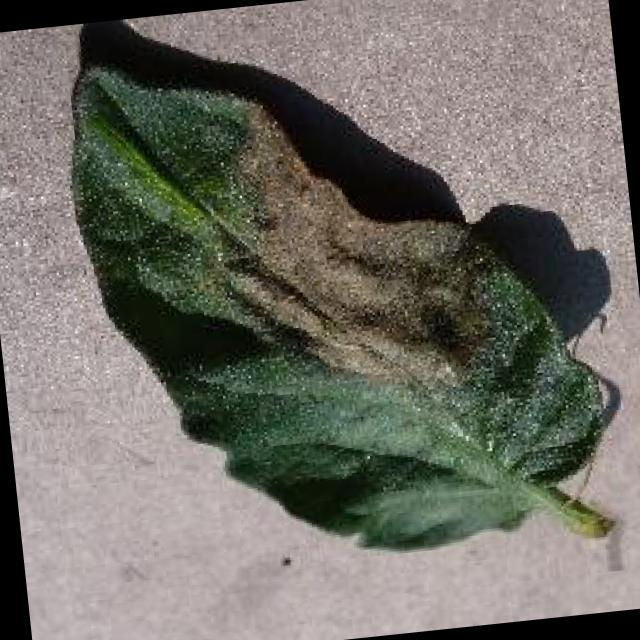Tomato_Late_Blight: (218, 88, 492, 372)
